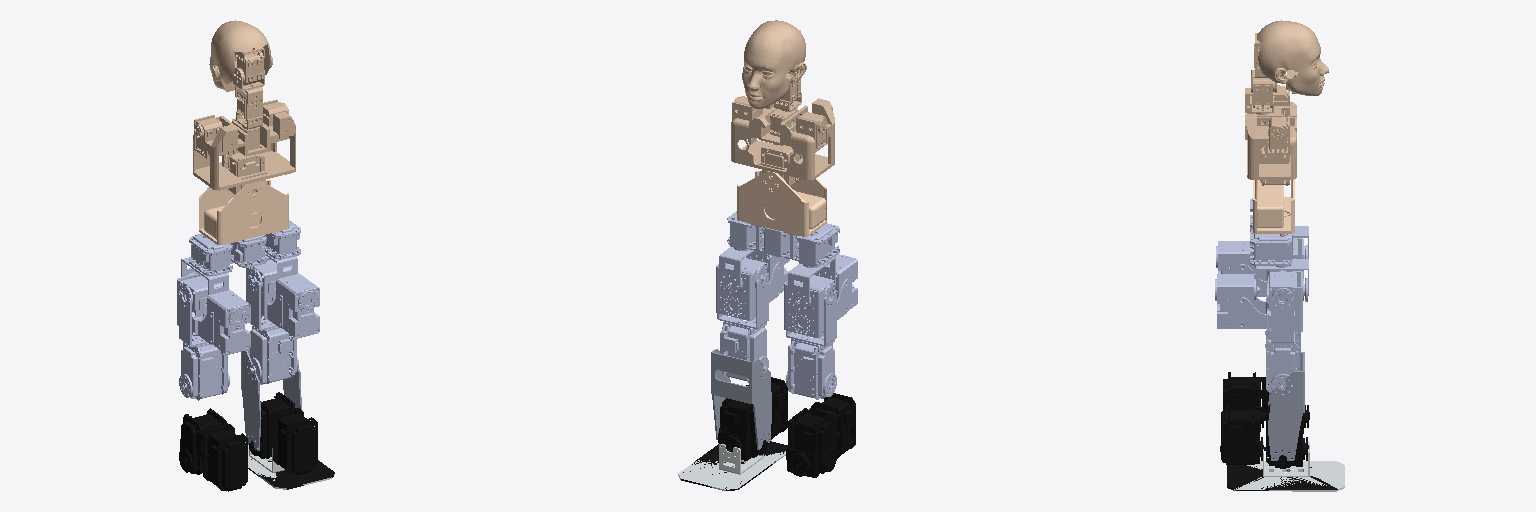
The robot description file, URDF, robot "ros16":
<?xml version="1.0" encoding="utf-8"?>
<!-- This URDF was automatically created by SolidWorks to URDF Exporter! Originally created by [author] ([email redacted]) 
     Commit Version: 1.6.0-4-g7f85cfe  Build Version: 1.6.7995.38578
     For more information, please see http://wiki.ros.org/sw_urdf_exporter -->
<robot
  name="ros16">
  <link
    name="base_link">
    <inertial>
      <origin
        xyz="0.00012411 -0.011342 0.43473"
        rpy="0 0 0" />
      <mass
        value="0.22153" />
      <inertia
        ixx="0.0001019"
        ixy="6.9163E-08"
        ixz="-5.1407E-08"
        iyy="0.00017338"
        iyz="8.0451E-06"
        izz="0.00015892" />
    </inertial>
    <visual>
      <origin
        xyz="0 0 0"
        rpy="0 0 0" />
      <geometry>
        <mesh
          filename="package://ros16/meshes/base_link.STL" />
      </geometry>
      <material
        name="">
        <color
          rgba="0.88627 0.77647 0.67843 1" />
      </material>
    </visual>
    <collision>
      <origin
        xyz="0 0 0"
        rpy="0 0 0" />
      <geometry>
        <mesh
          filename="package://ros16/meshes/base_link.STL" />
      </geometry>
    </collision>
  </link>
  <link
    name="waist_link">
    <inertial>
      <origin
        xyz="0.0402135117595246 -0.0022735547509958 0.0289825682297939"
        rpy="0 0 0" />
      <mass
        value="0.253025215067274" />
      <inertia
        ixx="0.000207131359721091"
        ixy="1.33833804574623E-10"
        ixz="-1.37231708481391E-07"
        iyy="6.88385602261252E-05"
        iyz="-1.27099608046946E-07"
        izz="0.000198692839118258" />
    </inertial>
    <visual>
      <origin
        xyz="0 0 0"
        rpy="0 0 0" />
      <geometry>
        <mesh
          filename="package://ros16/meshes/waist_link.STL" />
      </geometry>
      <material
        name="">
        <color
          rgba="0.996078431372549 0.870588235294118 0.76078431372549 1" />
      </material>
    </visual>
    <collision>
      <origin
        xyz="0 0 0"
        rpy="0 0 0" />
      <geometry>
        <mesh
          filename="package://ros16/meshes/waist_link.STL" />
      </geometry>
    </collision>
  </link>
  <joint
    name="waist_joint_1"
    type="revolute">
    <origin
      xyz="3.0614E-05 0.016897 0.37241"
      rpy="1.5708 1.5708 0" />
    <parent
      link="base_link" />
    <child
      link="waist_link" />
    <axis
      xyz="0 0.00097878 -1" />
    <limit
      lower="-3.142"
      upper="3.142"
      effort="3"
      velocity="3" />
  </joint>
  <link
    name="hip_link">
    <inertial>
      <origin
        xyz="0.0110096354024396 -2.18122464534787E-10 -0.0226635098061163"
        rpy="0 0 0" />
      <mass
        value="0.138823597375586" />
      <inertia
        ixx="2.38836135385919E-05"
        ixy="-8.91536391537714E-13"
        ixz="-1.82745082434043E-07"
        iyy="3.83539115680951E-05"
        iyz="1.24298522690001E-12"
        izz="3.15172006085393E-05" />
    </inertial>
    <visual>
      <origin
        xyz="0 0 0"
        rpy="0 0 0" />
      <geometry>
        <mesh
          filename="package://ros16/meshes/hip_link.STL" />
      </geometry>
      <material
        name="">
        <color
          rgba="0.792156862745098 0.819607843137255 0.933333333333333 1" />
      </material>
    </visual>
    <collision>
      <origin
        xyz="0 0 0"
        rpy="0 0 0" />
      <geometry>
        <mesh
          filename="package://ros16/meshes/hip_link.STL" />
      </geometry>
    </collision>
  </link>
  <joint
    name="hip_joint_2"
    type="revolute">
    <origin
      xyz="0.05515 -1.4533E-05 0.01485"
      rpy="1.5708 -1.5698 -1.5708" />
    <parent
      link="waist_link" />
    <child
      link="hip_link" />
    <axis
      xyz="0 0 -1" />
    <limit
      lower="-3.142"
      upper="3.142"
      effort="3"
      velocity="3" />
  </joint>
  <link
    name="hip_right_link">
    <inertial>
      <origin
        xyz="-0.00422614947955779 1.30363239334297E-05 0.0101024474395421"
        rpy="0 0 0" />
      <mass
        value="0.00819925239367431" />
      <inertia
        ixx="1.32821149148133E-06"
        ixy="-2.10863542146457E-14"
        ixz="-1.29538092741313E-11"
        iyy="4.79909587455137E-06"
        iyz="3.91751811825395E-12"
        izz="4.48167530300692E-06" />
    </inertial>
    <visual>
      <origin
        xyz="0 0 0"
        rpy="0 0 0" />
      <geometry>
        <mesh
          filename="package://ros16/meshes/hip_right_link.STL" />
      </geometry>
      <material
        name="">
        <color
          rgba="0.792156862745098 0.819607843137255 0.933333333333333 1" />
      </material>
    </visual>
    <collision>
      <origin
        xyz="0 0 0"
        rpy="0 0 0" />
      <geometry>
        <mesh
          filename="package://ros16/meshes/hip_right_link.STL" />
      </geometry>
    </collision>
  </link>
  <joint
    name="hip_right_joint_4"
    type="revolute">
    <origin
      xyz="0 0.045659 -0.0452"
      rpy="-3.1416 0 0" />
    <parent
      link="hip_link" />
    <child
      link="hip_right_link" />
    <axis
      xyz="0 0 1" />
    <limit
      lower="-3.142"
      upper="3.142"
      effort="3"
      velocity="3" />
  </joint>
  <link
    name="hip2_right_link">
    <inertial>
      <origin
        xyz="-0.0152802051528608 0.000300443248466897 -0.00231147744393123"
        rpy="0 0 0" />
      <mass
        value="0.190491121315995" />
      <inertia
        ixx="4.96584513485555E-05"
        ixy="-1.61906609668238E-07"
        ixz="1.96075652820577E-07"
        iyy="7.60017328225244E-05"
        iyz="4.25333788432807E-09"
        izz="8.03503917179731E-05" />
    </inertial>
    <visual>
      <origin
        xyz="0 0 0"
        rpy="0 0 0" />
      <geometry>
        <mesh
          filename="package://ros16/meshes/hip2_right_link.STL" />
      </geometry>
      <material
        name="">
        <color
          rgba="0.792156862745098 0.819607843137255 0.933333333333333 1" />
      </material>
    </visual>
    <collision>
      <origin
        xyz="0 0 0"
        rpy="0 0 0" />
      <geometry>
        <mesh
          filename="package://ros16/meshes/hip2_right_link.STL" />
      </geometry>
    </collision>
  </link>
  <joint
    name="hip2_right_joint_8"
    type="revolute">
    <origin
      xyz="0.025902 1.4356E-05 0.0319"
      rpy="0.00097878 1.5708 0" />
    <parent
      link="hip_right_link" />
    <child
      link="hip2_right_link" />
    <axis
      xyz="0 0.00097878 1" />
    <limit
      lower="-3.142"
      upper="3.142"
      effort="10"
      velocity="3" />
  </joint>
  <link
    name="knee_right_link">
    <inertial>
      <origin
        xyz="0.0913090349122435 2.80103607658844E-05 -0.0296791212758651"
        rpy="0 0 0" />
      <mass
        value="0.0990788181729648" />
      <inertia
        ixx="2.89113990326741E-05"
        ixy="-7.60262641748879E-09"
        ixz="-1.06282733195236E-06"
        iyy="4.93830312858525E-05"
        iyz="-2.31023931628502E-09"
        izz="3.6564094559343E-05" />
    </inertial>
    <visual>
      <origin
        xyz="0 0 0"
        rpy="0 0 0" />
      <geometry>
        <mesh
          filename="package://ros16/meshes/knee_right_link.STL" />
      </geometry>
      <material
        name="">
        <color
          rgba="0.792156862745098 0.819607843137255 0.933333333333333 1" />
      </material>
    </visual>
    <collision>
      <origin
        xyz="0 0 0"
        rpy="0 0 0" />
      <geometry>
        <mesh
          filename="package://ros16/meshes/knee_right_link.STL" />
      </geometry>
    </collision>
  </link>
  <joint
    name="knee_right_joint_6"
    type="revolute">
    <origin
      xyz="0 0.029774 -0.026449"
      rpy="1.5718 0 3.1416" />
    <parent
      link="hip2_right_link" />
    <child
      link="knee_right_link" />
    <axis
      xyz="0 0 -1" />
    <limit
      lower="-3.142"
      upper="3.142"
      effort="10"
      velocity="3" />
  </joint>
  <link
    name="knee2_right_link">
    <inertial>
      <origin
        xyz="0.00804899987914626 -0.0336820805195894 0.0600831335075141"
        rpy="0 0 0" />
      <mass
        value="0.0193582268613658" />
      <inertia
        ixx="3.00376034908173E-05"
        ixy="-4.16144017849549E-06"
        ixz="-4.53526586250574E-20"
        iyy="1.54337706515249E-05"
        iyz="-1.39870064162852E-19"
        izz="2.14370365193726E-05" />
    </inertial>
    <visual>
      <origin
        xyz="0 0 0"
        rpy="0 0 0" />
      <geometry>
        <mesh
          filename="package://ros16/meshes/knee2_right_link.STL" />
      </geometry>
      <material
        name="">
        <color
          rgba="0.666666666666667 0.698039215686274 0.768627450980392 1" />
      </material>
    </visual>
    <collision>
      <origin
        xyz="0 0 0"
        rpy="0 0 0" />
      <geometry>
        <mesh
          filename="package://ros16/meshes/knee2_right_link.STL" />
      </geometry>
    </collision>
  </link>
  <joint
    name="knee2_right_joint_10"
    type="revolute">
    <origin
      xyz="0.11283 -0.00128 0.030619"
      rpy="3.1416 0 -1.5708" />
    <parent
      link="knee_right_link" />
    <child
      link="knee2_right_link" />
    <axis
      xyz="0 0 -1" />
    <limit
      lower="-3.142"
      upper="3.142"
      effort="10"
      velocity="3" />
  </joint>
  <link
    name="angkle_right_link">
    <inertial>
      <origin
        xyz="-0.00378323508730811 0.0163203907687402 -0.0331964377564581"
        rpy="0 0 0" />
      <mass
        value="0.237978786468489" />
      <inertia
        ixx="0.000171283046245281"
        ixy="1.07371172497559E-06"
        ixz="-1.06118699691654E-06"
        iyy="0.000105820220556833"
        iyz="-8.74301085915205E-14"
        izz="0.000168335248057341" />
    </inertial>
    <visual>
      <origin
        xyz="0 0 0"
        rpy="0 0 0" />
      <geometry>
        <mesh
          filename="package://ros16/meshes/angkle_right_link.STL" />
      </geometry>
      <material
        name="">
        <color
          rgba="0.109803921568627 0.109803921568627 0.109803921568627 1" />
      </material>
    </visual>
    <collision>
      <origin
        xyz="0 0 0"
        rpy="0 0 0" />
      <geometry>
        <mesh
          filename="package://ros16/meshes/angkle_right_link.STL" />
      </geometry>
    </collision>
  </link>
  <joint
    name="angkle_right_joint_12"
    type="revolute">
    <origin
      xyz="-0.00128 -0.095 0.029519"
      rpy="3.1416 0 -1.5708" />
    <parent
      link="knee2_right_link" />
    <child
      link="angkle_right_link" />
    <axis
      xyz="0 0 1" />
    <limit
      lower="-3.142"
      upper="3.142"
      effort="10"
      velocity="3" />
  </joint>
  <link
    name="foot_right_link">
    <inertial>
      <origin
        xyz="0.0292638669779864 -0.00786355244260536 0.0229100151239962"
        rpy="0 0 0" />
      <mass
        value="0.0728910331402476" />
      <inertia
        ixx="0.000132875190059041"
        ixy="-1.59693308576022E-08"
        ixz="5.14433456052773E-11"
        iyy="0.000102630010024421"
        iyz="-3.53759810354889E-14"
        izz="3.33197131957308E-05" />
    </inertial>
    <visual>
      <origin
        xyz="0 0 0"
        rpy="0 0 0" />
      <geometry>
        <mesh
          filename="package://ros16/meshes/foot_right_link.STL" />
      </geometry>
      <material
        name="">
        <color
          rgba="0.898039215686275 0.917647058823529 0.929411764705882 1" />
      </material>
    </visual>
    <collision>
      <origin
        xyz="0 0 0"
        rpy="0 0 0" />
      <geometry>
        <mesh
          filename="package://ros16/meshes/foot_right_link.STL" />
      </geometry>
    </collision>
  </link>
  <joint
    name="foot_right_14"
    type="revolute">
    <origin
      xyz="0 0.0188 -0.0308"
      rpy="1.5708 -0.00052794 0" />
    <parent
      link="angkle_right_link" />
    <child
      link="foot_right_link" />
    <axis
      xyz="0 0 1" />
    <limit
      lower="-3.142"
      upper="3.142"
      effort="10"
      velocity="3" />
  </joint>
  <link
    name="hip_left_link">
    <inertial>
      <origin
        xyz="-0.0042261600607178 3.63926847047474E-06 0.0101024507687434"
        rpy="0 0 0" />
      <mass
        value="0.00819925239367436" />
      <inertia
        ixx="1.32821470046737E-06"
        ixy="-3.33735824871365E-09"
        ixz="-1.47194999856043E-11"
        iyy="4.79909257297121E-06"
        iyz="1.71482639026549E-10"
        izz="4.48167539560129E-06" />
    </inertial>
    <visual>
      <origin
        xyz="0 0 0"
        rpy="0 0 0" />
      <geometry>
        <mesh
          filename="package://ros16/meshes/hip_left_link.STL" />
      </geometry>
      <material
        name="">
        <color
          rgba="0.792156862745098 0.819607843137255 0.933333333333333 1" />
      </material>
    </visual>
    <collision>
      <origin
        xyz="0 0 0"
        rpy="0 0 0" />
      <geometry>
        <mesh
          filename="package://ros16/meshes/hip_left_link.STL" />
      </geometry>
    </collision>
  </link>
  <joint
    name="hip_left_joint_3"
    type="revolute">
    <origin
      xyz="0 -0.045659 -0.0452"
      rpy="3.1411 0 0.00096153" />
    <parent
      link="hip_link" />
    <child
      link="hip_left_link" />
    <axis
      xyz="0 -0.00052794 1" />
    <limit
      lower="-3.142"
      upper="3.142"
      effort="3"
      velocity="3" />
  </joint>
  <link
    name="hip2_left_link">
    <inertial>
      <origin
        xyz="0.0152802051527449 -0.00030496023944946 0.00231049476447923"
        rpy="0 0 0" />
      <mass
        value="0.190491121319325" />
      <inertia
        ixx="4.9658451349081E-05"
        ixy="-1.61860331826734E-07"
        ixz="1.95758628097579E-07"
        iyy="7.60017328226701E-05"
        iyz="-4.25333764200953E-09"
        izz="8.03503917184427E-05" />
    </inertial>
    <visual>
      <origin
        xyz="0 0 0"
        rpy="0 0 0" />
      <geometry>
        <mesh
          filename="package://ros16/meshes/hip2_left_link.STL" />
      </geometry>
      <material
        name="">
        <color
          rgba="0.792156862745098 0.819607843137255 0.933333333333333 1" />
      </material>
    </visual>
    <collision>
      <origin
        xyz="0 0 0"
        rpy="0 0 0" />
      <geometry>
        <mesh
          filename="package://ros16/meshes/hip2_left_link.STL" />
      </geometry>
    </collision>
  </link>
  <joint
    name="hip2_left_joint"
    type="revolute">
    <origin
      xyz="0.024622 2.1189E-05 0.0319"
      rpy="1.5708 -1.5703 -1.5708" />
    <parent
      link="hip_left_link" />
    <child
      link="hip2_left_link" />
    <axis
      xyz="0 0.00097878 -1" />
    <limit
      lower="-3.142"
      upper="3.142"
      effort="10"
      velocity="3" />
  </joint>
  <link
    name="knee_left_link">
    <inertial>
      <origin
        xyz="0.0913090349135639 -0.0296791392209477 5.81000804122933E-06"
        rpy="0 0 0" />
      <mass
        value="0.0990788181435478" />
      <inertia
        ixx="2.89113990266018E-05"
        ixy="-1.06281617477701E-06"
        ixz="-1.19068337531011E-08"
        iyy="3.65641019569103E-05"
        iyz="-1.0015481373383E-08"
        izz="4.93830238641028E-05" />
    </inertial>
    <visual>
      <origin
        xyz="0 0 0"
        rpy="0 0 0" />
      <geometry>
        <mesh
          filename="package://ros16/meshes/knee_left_link.STL" />
      </geometry>
      <material
        name="">
        <color
          rgba="0.792156862745098 0.819607843137255 0.933333333333333 1" />
      </material>
    </visual>
    <collision>
      <origin
        xyz="0 0 0"
        rpy="0 0 0" />
      <geometry>
        <mesh
          filename="package://ros16/meshes/knee_left_link.STL" />
      </geometry>
    </collision>
  </link>
  <joint
    name="knee_left_joint_5"
    type="revolute">
    <origin
      xyz="0 -0.029826 0.026391"
      rpy="-3.1416 0 0" />
    <parent
      link="hip2_left_link" />
    <child
      link="knee_left_link" />
    <axis
      xyz="0 -1 -0.00096153" />
    <limit
      lower="-3.142"
      upper="3.142"
      effort="10"
      velocity="3" />
  </joint>
  <link
    name="knee2_left_link">
    <inertial>
      <origin
        xyz="-0.0336820845821866 0.0106089827811632 0.0600831335075176"
        rpy="0 0 0" />
      <mass
        value="0.0193582268613658" />
      <inertia
        ixx="1.54337748764643E-05"
        ixy="-4.16144759182268E-06"
        ixz="1.82994685373269E-19"
        iyy="3.0037599265878E-05"
        iyz="-4.05351587375486E-20"
        izz="2.14370365193726E-05" />
    </inertial>
    <visual>
      <origin
        xyz="0 0 0"
        rpy="0 0 0" />
      <geometry>
        <mesh
          filename="package://ros16/meshes/knee2_left_link.STL" />
      </geometry>
      <material
        name="">
        <color
          rgba="0.666666666666667 0.698039215686274 0.768627450980392 1" />
      </material>
    </visual>
    <collision>
      <origin
        xyz="0 0 0"
        rpy="0 0 0" />
      <geometry>
        <mesh
          filename="package://ros16/meshes/knee2_left_link.STL" />
      </geometry>
    </collision>
  </link>
  <joint
    name="knee2_left_joint_9"
    type="revolute">
    <origin
      xyz="0.11283 0.030617 0.0013094"
      rpy="-1.5718 0 -3.1416" />
    <parent
      link="knee_left_link" />
    <child
      link="knee2_left_link" />
    <axis
      xyz="0 0 -1" />
    <limit
      lower="-3.142"
      upper="3.142"
      effort="10"
      velocity="3" />
  </joint>
  <link
    name="angkle_left_link">
    <inertial>
      <origin
        xyz="0.0152939106906944 0.0229335658249762 -0.0307868819473238"
        rpy="0 0 0" />
      <mass
        value="0.181635293744239" />
      <inertia
        ixx="4.69097394400458E-05"
        ixy="-1.07043030324012E-06"
        ixz="1.06446704295086E-06"
        iyy="7.52709488472469E-05"
        iyz="1.07401465781738E-13"
        izz="7.47612900454884E-05" />
    </inertial>
    <visual>
      <origin
        xyz="0 0 0"
        rpy="0 0 0" />
      <geometry>
        <mesh
          filename="package://ros16/meshes/angkle_left_link.STL" />
      </geometry>
      <material
        name="">
        <color
          rgba="0.109803921568627 0.109803921568627 0.109803921568627 1" />
      </material>
    </visual>
    <collision>
      <origin
        xyz="0 0 0"
        rpy="0 0 0" />
      <geometry>
        <mesh
          filename="package://ros16/meshes/angkle_left_link.STL" />
      </geometry>
    </collision>
  </link>
  <joint
    name="angkle_left_joint_11"
    type="revolute">
    <origin
      xyz="-0.095 0.00128 0.029519"
      rpy="3.1416 0 0" />
    <parent
      link="knee2_left_link" />
    <child
      link="angkle_left_link" />
    <axis
      xyz="0 0 1" />
    <limit
      lower="-3.142"
      upper="3.142"
      effort="10"
      velocity="3" />
  </joint>
  <link
    name="foot_left_link">
    <inertial>
      <origin
        xyz="-0.029272 -0.0078327 0.02291"
        rpy="0 0 0" />
      <mass
        value="0.072891" />
      <inertia
        ixx="0.00013288"
        ixy="-1.5969E-08"
        ixz="8.2393E-16"
        iyy="0.00010263"
        iyz="2.7124E-14"
        izz="3.332E-05" />
    </inertial>
    <visual>
      <origin
        xyz="0 0 0"
        rpy="0 0 0" />
      <geometry>
        <mesh
          filename="package://ros16/meshes/foot_left_link.STL" />
      </geometry>
      <material
        name="">
        <color
          rgba="0.89804 0.91765 0.92941 1" />
      </material>
    </visual>
    <collision>
      <origin
        xyz="0 0 0"
        rpy="0 0 0" />
      <geometry>
        <mesh
          filename="package://ros16/meshes/foot_left_link.STL" />
      </geometry>
    </collision>
  </link>
  <joint
    name="foot_left_joint_13"
    type="revolute">
    <origin
      xyz="0 0.0188 -0.0308"
      rpy="1.5708 -0.00052794 0" />
    <parent
      link="angkle_left_link" />
    <child
      link="foot_left_link" />
    <axis
      xyz="0 0 1" />
    <limit
      lower="-3.142"
      upper="3.142"
      effort="10"
      velocity="3" />
  </joint>
</robot>

--- What the picture shows (computed from the rendered views, not written in the file) ---
Views: 3 orthographic renders of the robot side by side, from view 1: azimuth 30°, elevation 25°; view 2: azimuth 150°, elevation 25°; view 3: azimuth 270°, elevation 25°.
Robot: ros16 — 15 links, 14 joints (14 revolute); root link base_link; default pose: all joints at 0.
Links seen in each view (by area): view 1: base_link, angkle_right_link, waist_link, angkle_left_link, hip2_left_link, hip2_right_link, hip_link, knee_left_link, knee_right_link, knee2_right_link, foot_right_link, hip_left_link; view 2: base_link, waist_link, angkle_left_link, knee_left_link, angkle_right_link, knee2_right_link, hip_link, hip2_left_link, hip2_right_link, knee_right_link, foot_right_link, hip_left_link (+1 smaller); view 3: base_link, angkle_right_link, hip2_right_link, knee2_right_link, knee_right_link, waist_link, foot_right_link, hip2_left_link, angkle_left_link, hip_link.
Boxes of the visible links, x1,y1,x2,y2 form: base_link: (193,20,295,194); angkle_right_link: (248,392,334,489); waist_link: (199,180,288,244); angkle_left_link: (179,408,247,491); hip2_left_link: (177,273,250,354); hip2_right_link: (246,257,319,338); hip_link: (189,220,300,275); knee_left_link: (179,289,229,400); knee_right_link: (248,273,298,383); knee2_right_link: (241,349,301,450); foot_right_link: (245,442,334,489); hip_left_link: (181,257,228,294); base_link: (731,20,834,185); waist_link: (737,171,826,236); angkle_left_link: (786,393,855,477); knee_left_link: (786,290,836,399); angkle_right_link: (681,377,787,490); knee2_right_link: (711,349,771,449); hip_link: (727,211,839,266); hip2_left_link: (784,254,857,337); hip2_right_link: (716,254,789,320); knee_right_link: (717,273,768,382); foot_right_link: (678,444,785,490); hip_left_link: (788,257,835,311); base_link: (1245,20,1328,185); angkle_right_link: (1220,404,1337,490); hip2_right_link: (1215,271,1303,331); knee2_right_link: (1268,352,1304,460); knee_right_link: (1265,297,1299,394); waist_link: (1253,179,1294,233); foot_right_link: (1233,442,1344,491); hip2_left_link: (1216,238,1305,296); angkle_left_link: (1223,372,1309,433); hip_link: (1250,198,1292,265).
Bounding box of the posed robot: 0.1674 × 0.1549 × 0.5681 m (x, y, z).
13 mesh visuals loaded from 15 distinct referenced files (13 binary STL); not drawn: 2 (reference not matched to a file when rendering).
